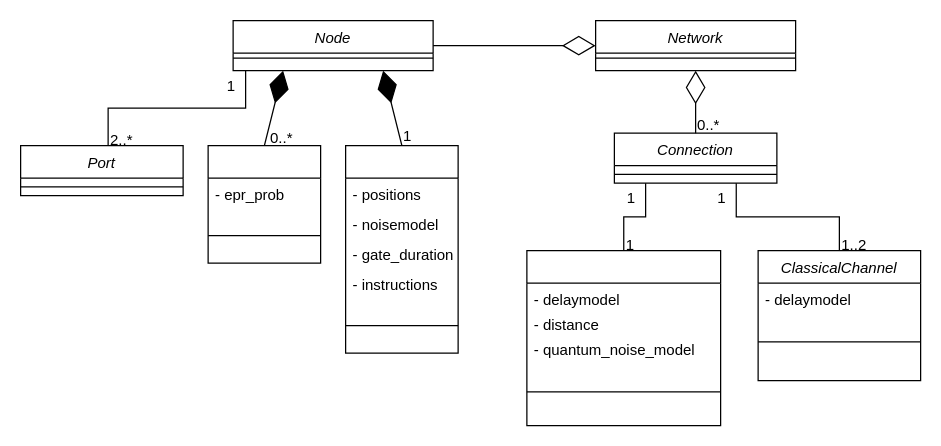
The diagram is 941 pixels wide and 446 high, and some of its shapes have lost their labels. Here are the shapes that lost their labels. From the top down, the box of each, then its label:
(207, 144, 321, 263): QSource
(344, 144, 458, 353): QProcessor
(526, 249, 721, 426): QuantumChannel
